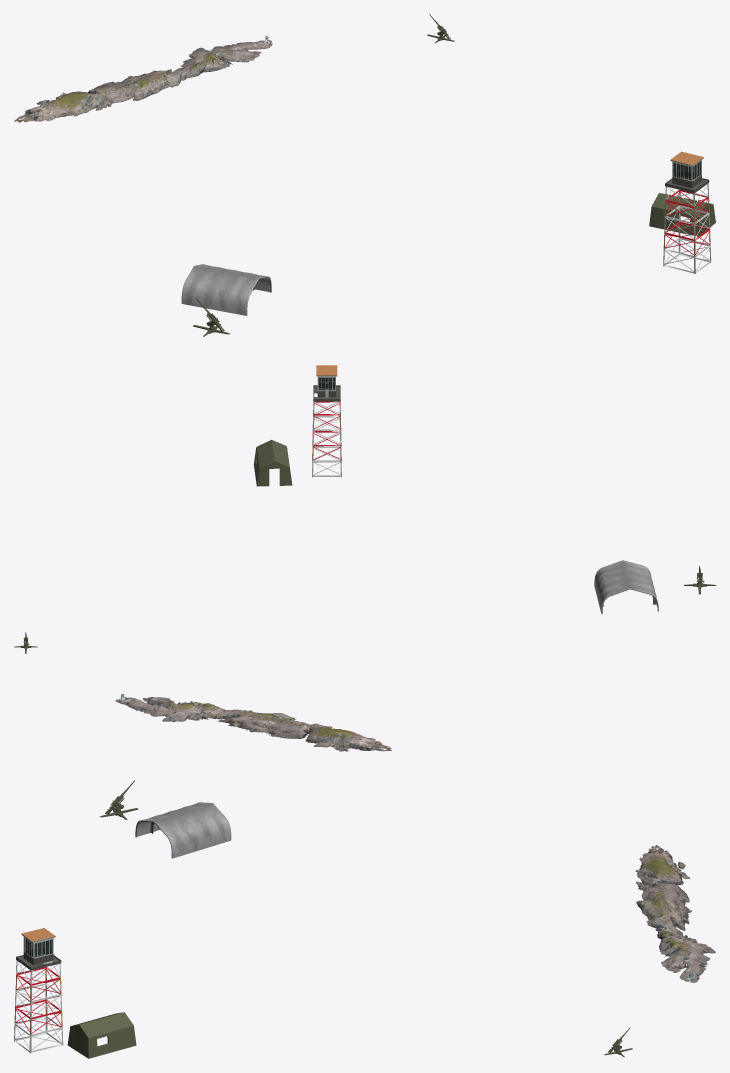
Rendered from Betio.glb.
The picture shows the model from 3 angles, top to bottom: view 1: azimuth 30°, elevation 25°; view 2: azimuth 150°, elevation 25°; view 3: azimuth 270°, elevation 25°; orthographic projection. The views are drawn at different scales.
Parts seen in each view (by area): view 1: Object_8, defaultMaterial.263, clothBuilding001_Material #67_0, Box001_Main Tent_0; view 2: Object_8, defaultMaterial.263, clothBuilding001_Material #67_0, Box001_Main Tent_0; view 3: Object_8, defaultMaterial.263, clothBuilding001_Material #67_0, Box001_Main Tent_0.
Part boxes in pixels (x1,y1,x2,y2): Object_8: (14,35,272,122); defaultMaterial.263: (663,151,711,273); clothBuilding001_Material #67_0: (181,264,271,315); Box001_Main Tent_0: (649,193,715,236); Object_8: (115,694,391,751); defaultMaterial.263: (312,365,341,477); clothBuilding001_Material #67_0: (594,560,658,614); Box001_Main Tent_0: (253,440,292,486); Object_8: (635,845,715,982); defaultMaterial.263: (14,928,63,1053); clothBuilding001_Material #67_0: (135,802,231,858); Box001_Main Tent_0: (67,1012,136,1058).
Bounding box in the file's own units: 206 × 41.82 × 244.
12 materials, 6 textured.
